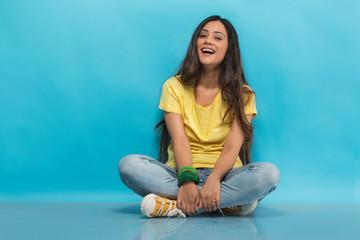Human: (126, 10, 285, 225)
